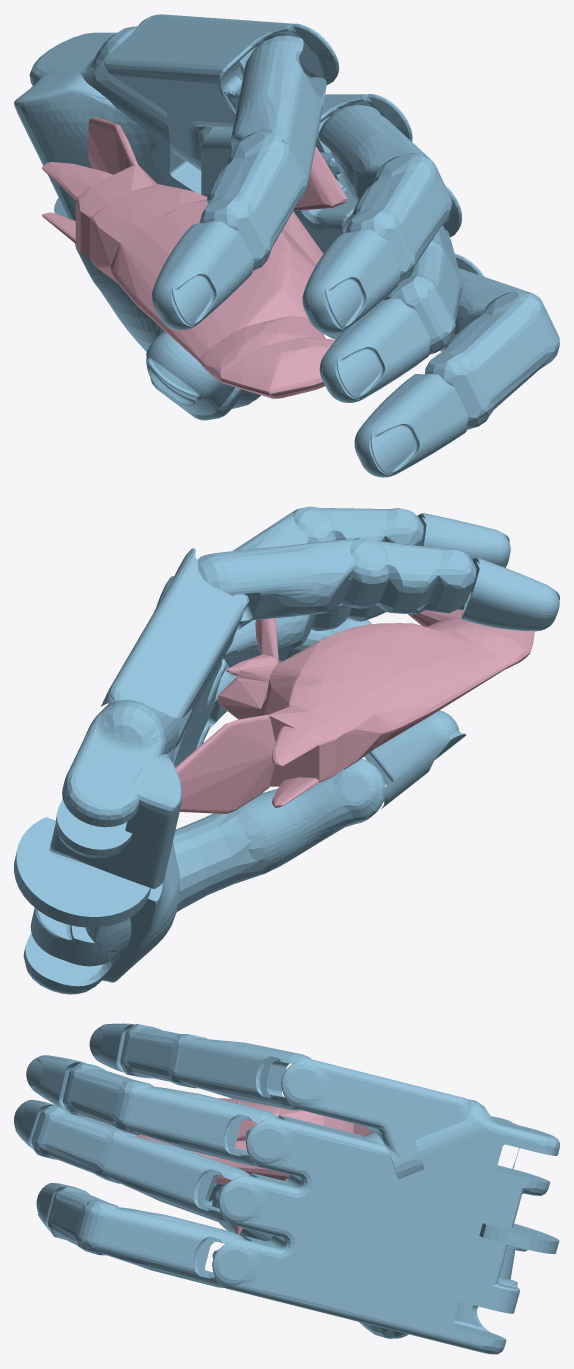
The picture shows the model from 3 angles, top to bottom: view 1: azimuth 30°, elevation 25°; view 2: azimuth 150°, elevation 25°; view 3: azimuth 270°, elevation 25°; orthographic projection. The views are drawn at different scales.
Parts seen in each view (by area): view 1: hand_isaac_q, world; view 2: hand_isaac_q, world; view 3: hand_isaac_q, world.
Boxes of the visible parts, x1=… form: hand_isaac_q: x1=14, y1=14, x2=559, y2=477; world: x1=42, y1=117, x2=347, y2=398; hand_isaac_q: x1=14, y1=506, x2=559, y2=994; world: x1=175, y1=609, x2=534, y2=813; hand_isaac_q: x1=14, y1=1023, x2=559, y2=1354; world: x1=85, y1=1098, x2=370, y2=1234.
Bounding box in the file's own units: 0.1126 × 0.1108 × 0.19.
